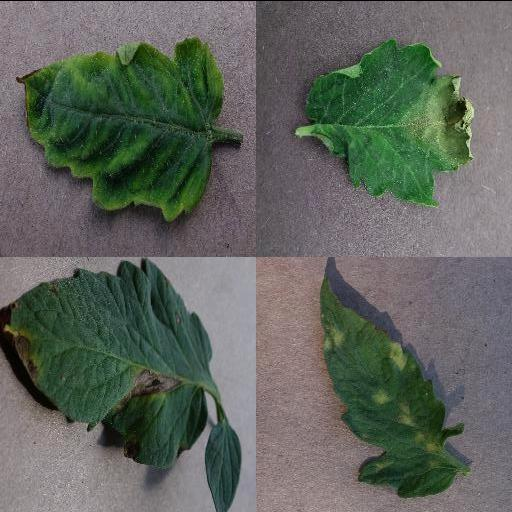Early Blight: (2, 256, 211, 469)
Healthy: (203, 422, 242, 512)
Late Blight: (302, 38, 476, 208)
Leaf Mold: (318, 276, 464, 495)
Yellow Leaf Curl Virus: (14, 36, 226, 222)
